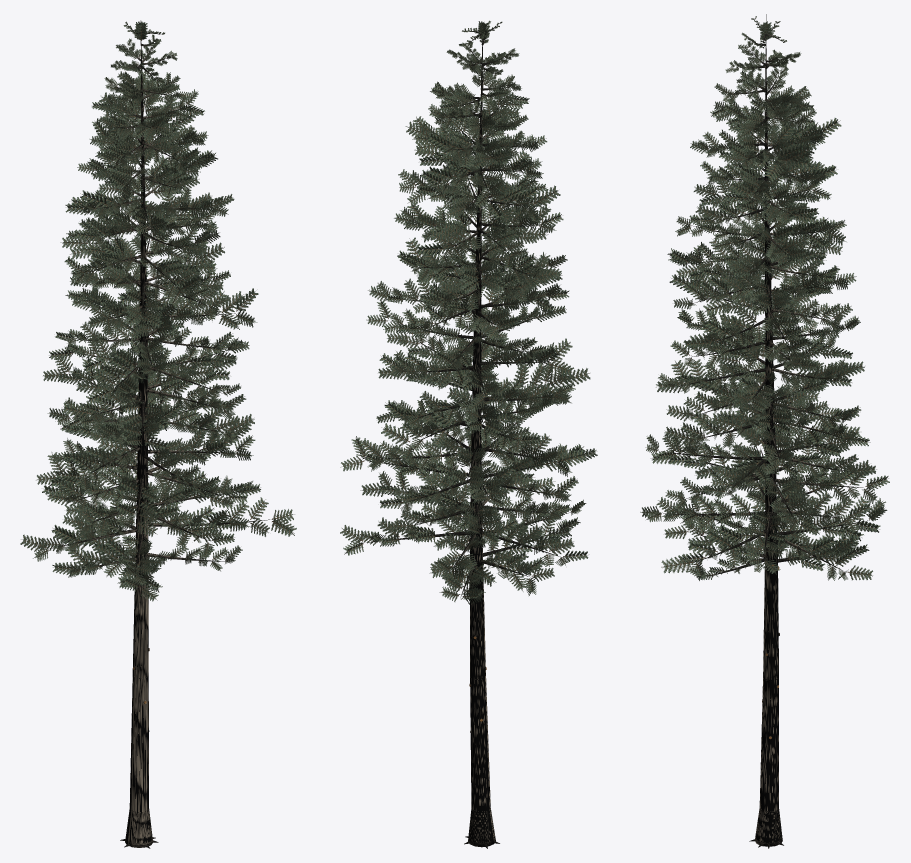
File: Sitka_OldLarge_01_LowPruned_Recent_LOD0.fbx
3 views of the same model, side by side, from view 1: azimuth 30°, elevation 25°; view 2: azimuth 150°, elevation 25°; view 3: azimuth 270°, elevation 25° (orthographic).
Parts seen in each view (by area): view 1: Sitka_OldLarge_01_LowPruned_Recent_LOD0; view 2: Sitka_OldLarge_01_LowPruned_Recent_LOD0; view 3: Sitka_OldLarge_01_LowPruned_Recent_LOD0.
Boxes of the visible parts, x1,y1,x2,y2 form: Sitka_OldLarge_01_LowPruned_Recent_LOD0: [20, 20, 296, 848]; Sitka_OldLarge_01_LowPruned_Recent_LOD0: [340, 20, 597, 848]; Sitka_OldLarge_01_LowPruned_Recent_LOD0: [640, 14, 889, 848].
Bounding box in the file's own units: 963 × 3200 × 927.
Materials: 3 (3 with a texture image).
